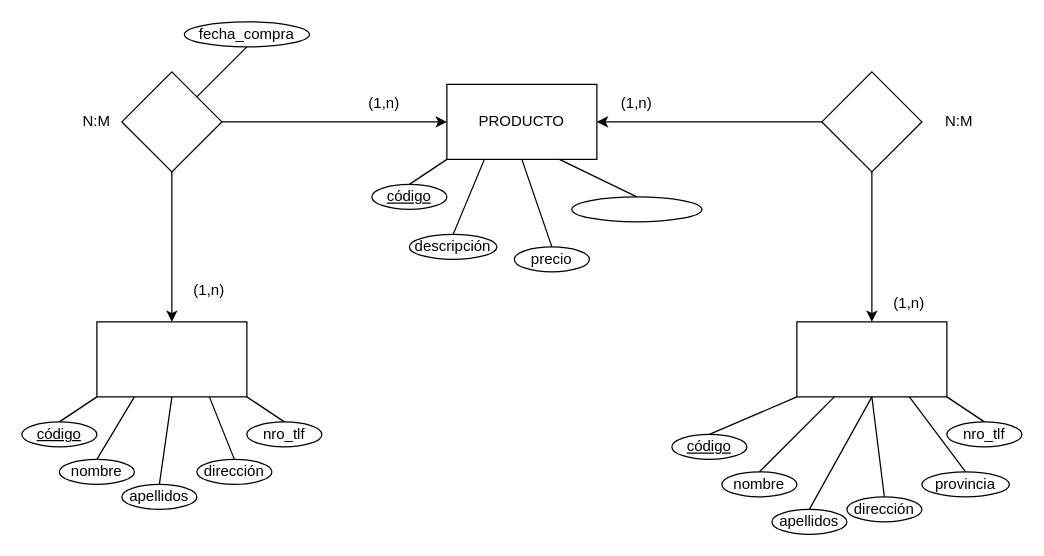
The diagram is 1044 pixels wide and 556 high, and some of its shapes have lost their labels. Here are the shapes that lost their labels. From the top down, the centre of each, then its label:
At (171,121): "Compra".
At (871,121): "Suministra".
At (636,209): "nro_existencias".
At (171,359): "CLIENTE".
At (871,359): "PROVEEDOR".
